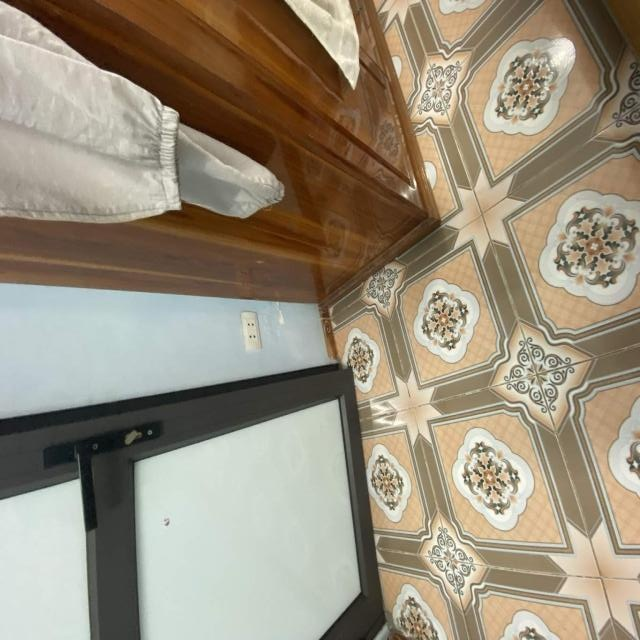outlet: (240, 311, 262, 352)
